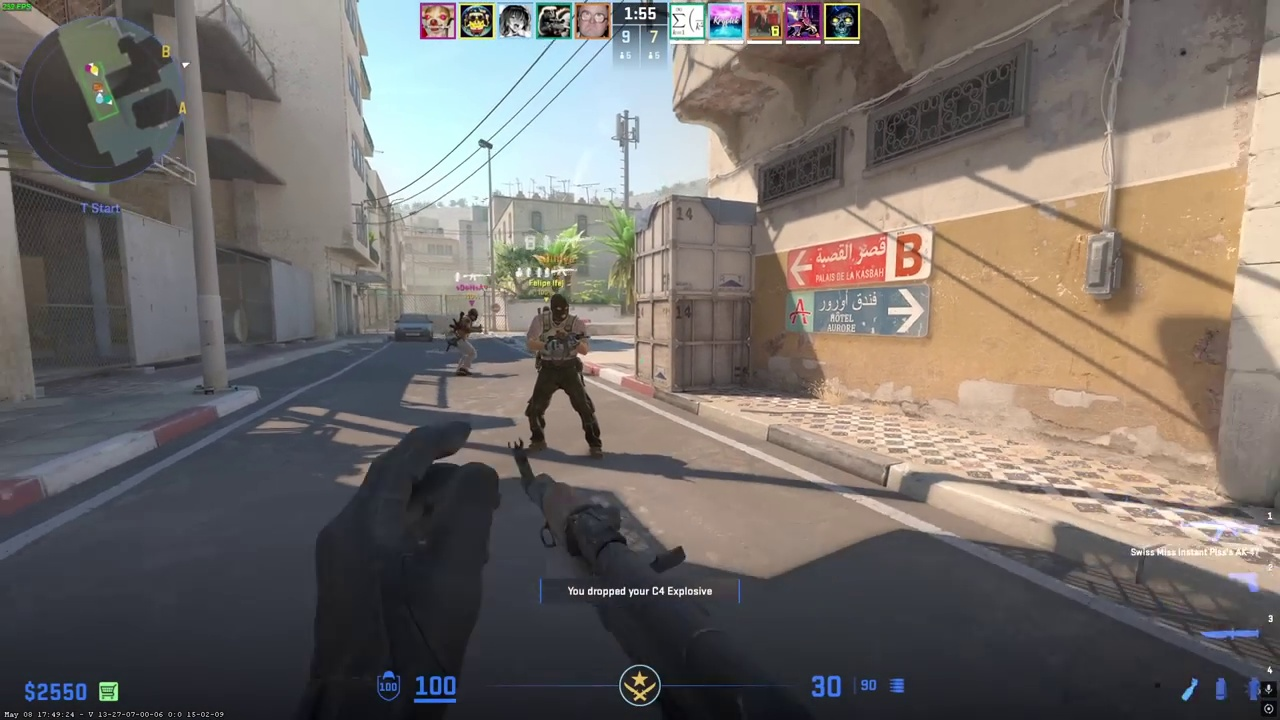Terrorist: (528, 295, 598, 460), (451, 308, 481, 378)
